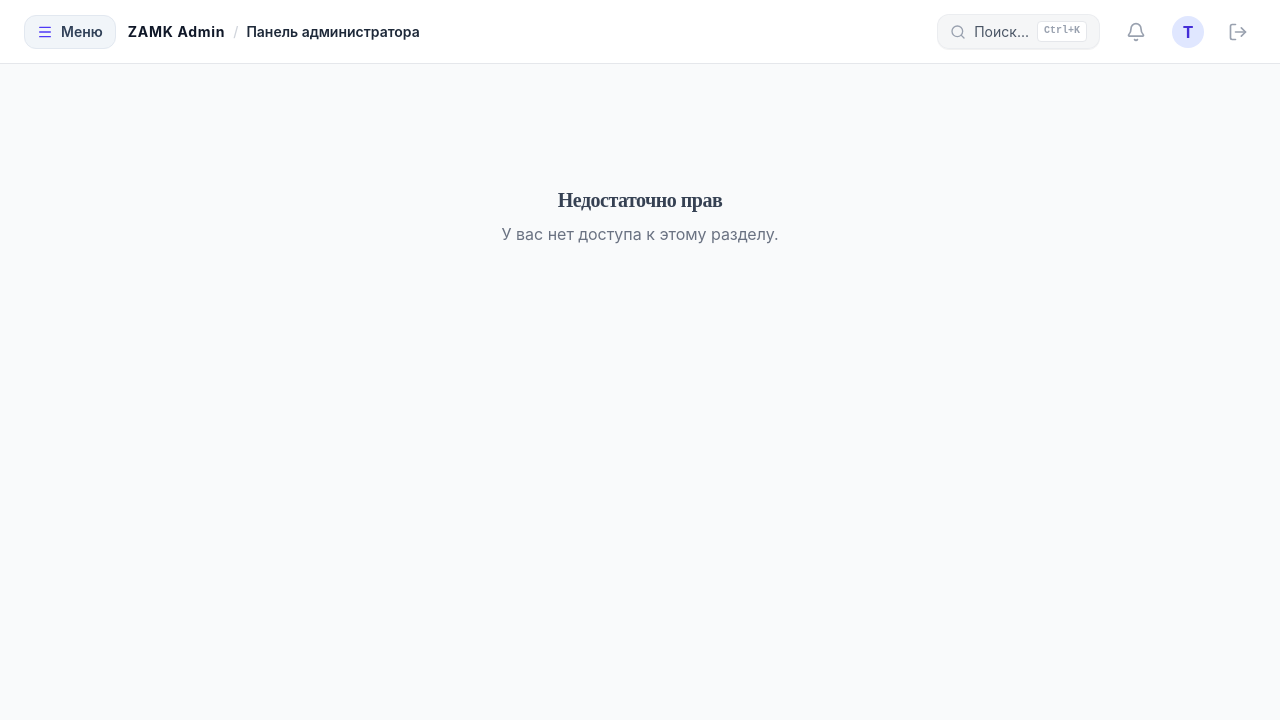
EMP.1C3C2R.2B — Admin Navigation and Route Guards Alignment › H: inventory.read alone does NOT expose supply receiving in navigation or route guard
This screenshot has width=1280, height=720.
Click the button with test id "admin-nav-trigger" at (70, 32), box x1=24 y1=14 x2=116 y2=48
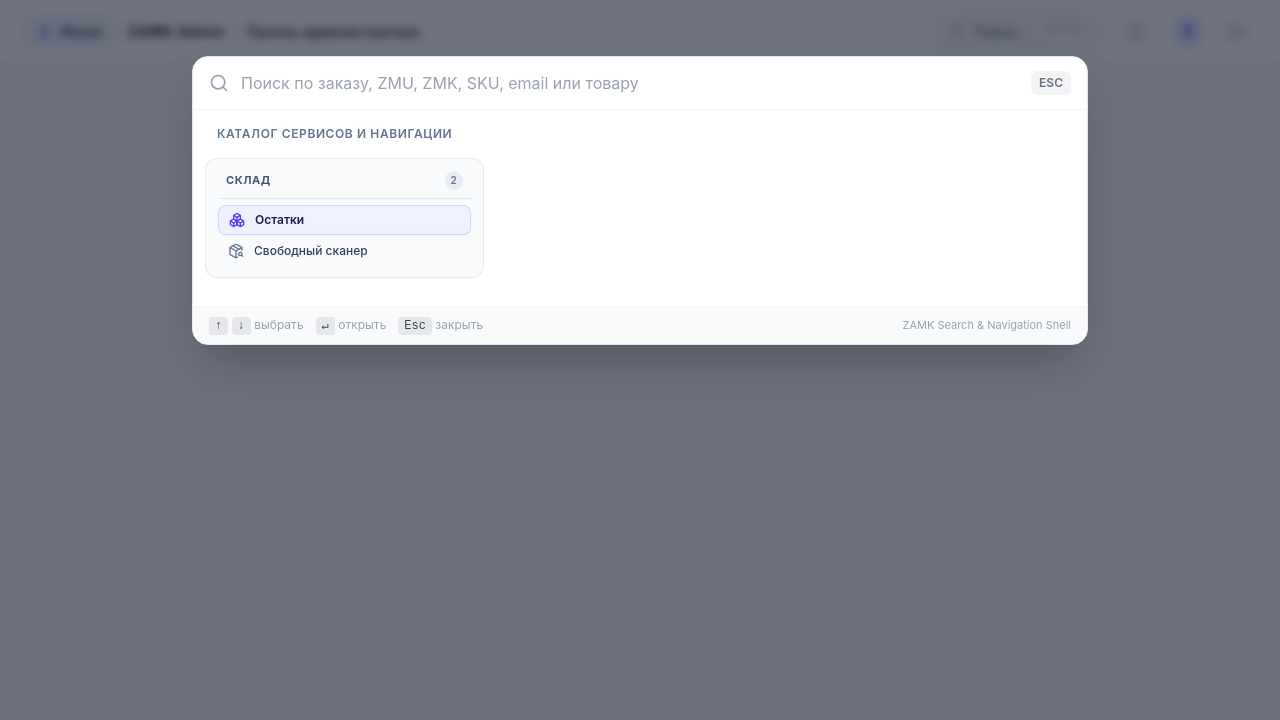
Expected: the text "Остатки" is shown, x1=255 y1=212 x2=304 y2=228
